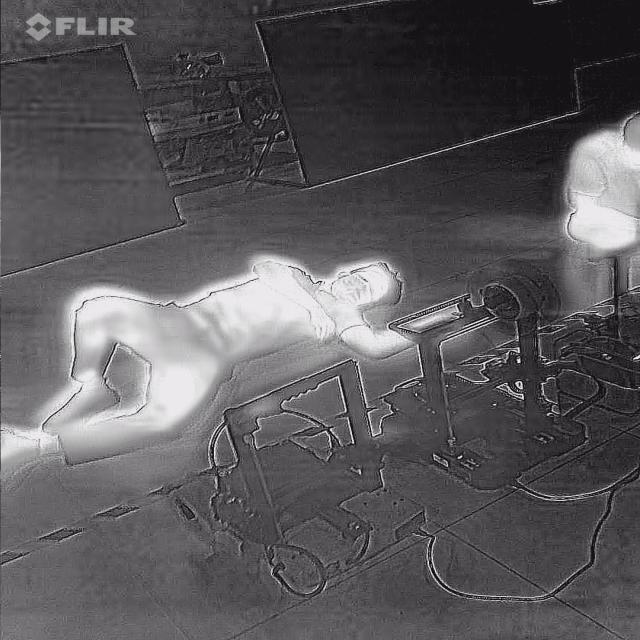Victim: (0, 240, 473, 487), (554, 103, 640, 256)
